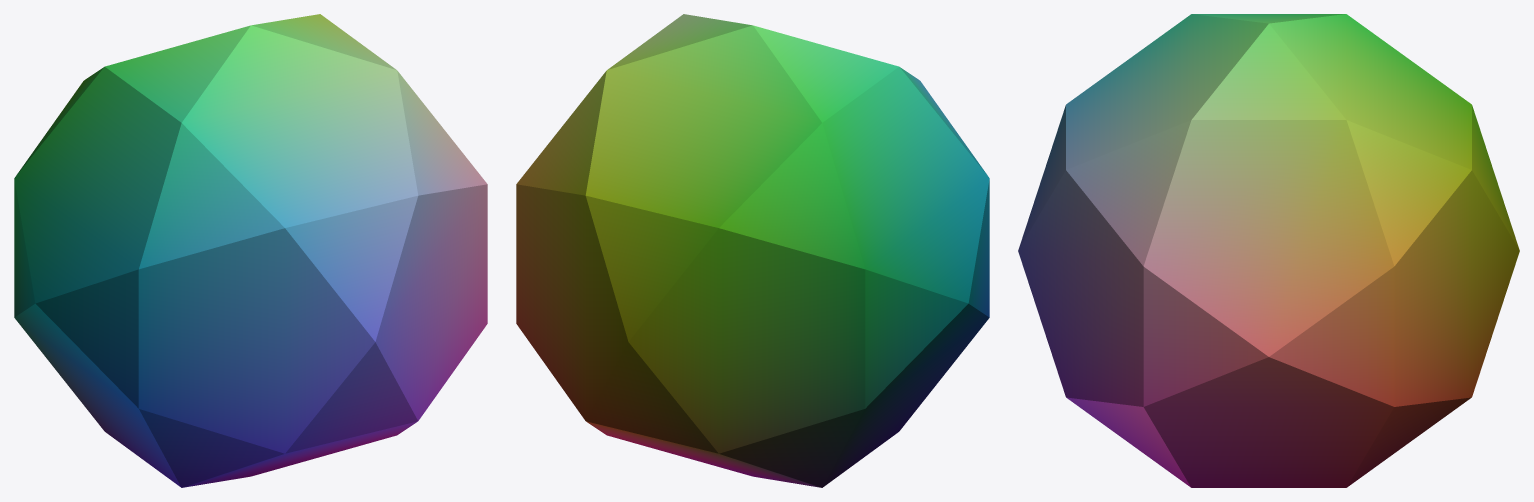
The model's file is zeometry-polyhedra-icosidodecahedron_v1.glb.
3 views of the same model, side by side, from view 1: azimuth 30°, elevation 25°; view 2: azimuth 150°, elevation 25°; view 3: azimuth 270°, elevation 25° (orthographic).
Visible parts, largest first — view 1: Icosidodecahedron_v1; view 2: Icosidodecahedron_v1; view 3: Icosidodecahedron_v1.
Boxes of the visible parts, bbox=[...] form: Icosidodecahedron_v1: bbox=[14, 14, 487, 487]; Icosidodecahedron_v1: bbox=[516, 14, 989, 487]; Icosidodecahedron_v1: bbox=[1018, 14, 1519, 487].
Bounding box in the file's own units: 0.5 × 0.5 × 0.5.
